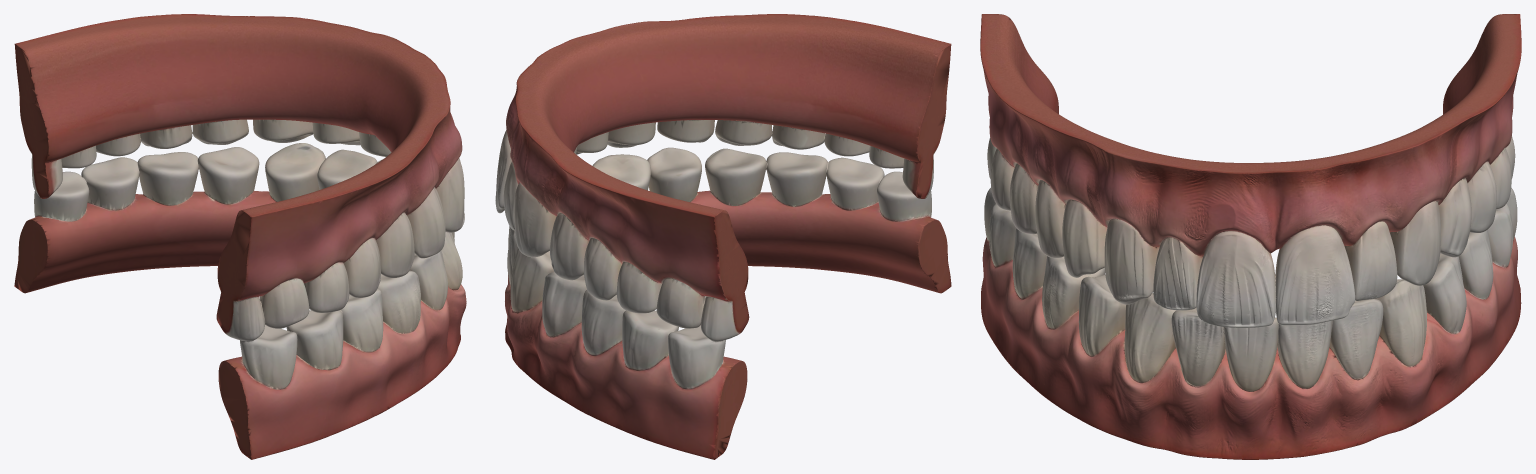
File: tooth-min.glb
The picture shows the model from 3 angles, left to right: view 1: azimuth 30°, elevation 25°; view 2: azimuth 150°, elevation 25°; view 3: azimuth 270°, elevation 25°; orthographic projection. The views are drawn at different scales.
Parts seen in each view (by area): view 1: tripo_node_af331bae-d15a-4877-8706-48aa43e92348; view 2: tripo_node_af331bae-d15a-4877-8706-48aa43e92348; view 3: tripo_node_af331bae-d15a-4877-8706-48aa43e92348.
Boxes of the visible parts, x1=… form: tripo_node_af331bae-d15a-4877-8706-48aa43e92348: x1=14, y1=14, x2=466, y2=459; tripo_node_af331bae-d15a-4877-8706-48aa43e92348: x1=495, y1=14, x2=951, y2=459; tripo_node_af331bae-d15a-4877-8706-48aa43e92348: x1=980, y1=14, x2=1521, y2=459.
Bounding box in the file's own units: 0.7433 × 0.5595 × 0.9801.
1 material, 1 textured.
